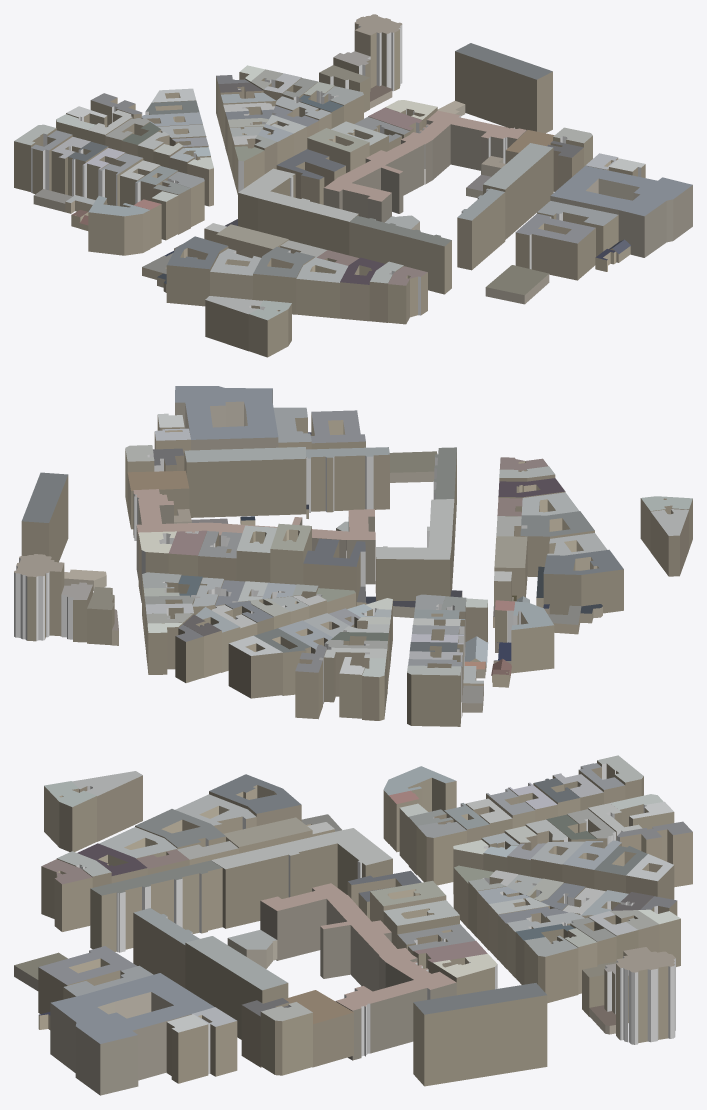
3 renders of one model, top to bottom at view 1: azimuth 30°, elevation 25°; view 2: azimuth 150°, elevation 25°; view 3: azimuth 270°, elevation 25°, orthographic. The views are drawn at different scales.
Parts seen in each view (by area): view 1: tuile; view 2: tuile; view 3: tuile.
Boxes of the visible parts, x1,y1,x2,y2 form: tuile: [14, 14, 692, 357]; tuile: [14, 386, 692, 726]; tuile: [14, 755, 692, 1095].
Bounding box in the file's own units: 279 × 39.31 × 279.
